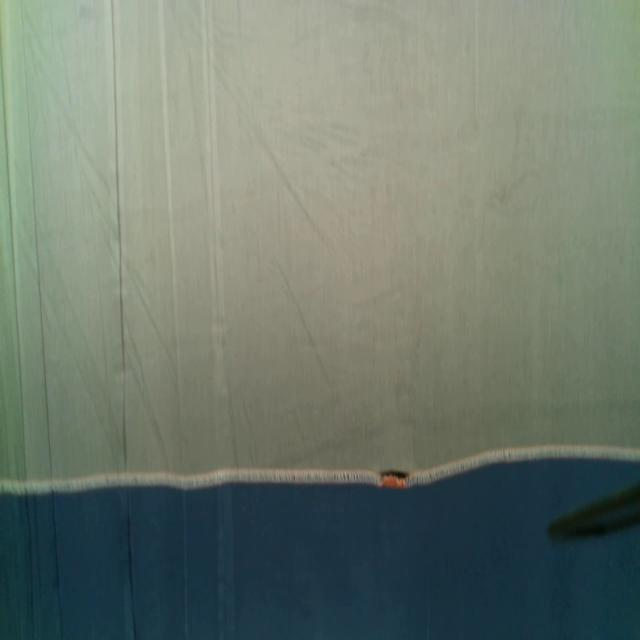crease: (0, 0, 66, 639), (200, 0, 236, 639), (156, 0, 192, 635), (109, 0, 138, 639), (472, 0, 481, 124)
hole: (379, 467, 411, 481)
